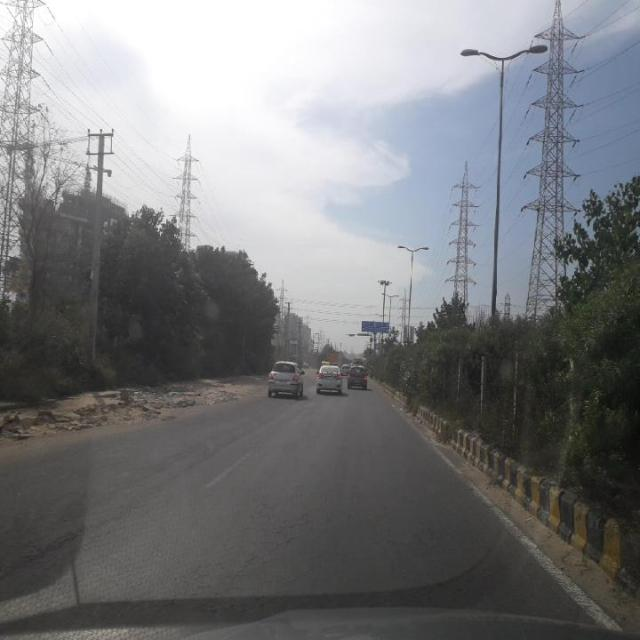D20: (9, 430, 538, 620)
D44: (196, 447, 257, 486)
